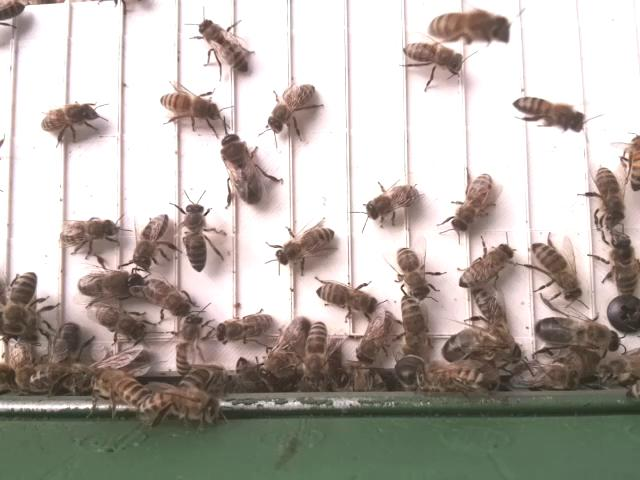Drone: (258, 315, 316, 385), (218, 131, 266, 206), (535, 314, 624, 352), (440, 327, 523, 365), (75, 269, 149, 302), (52, 316, 84, 383)
Worker: (530, 239, 583, 299), (197, 18, 250, 75), (450, 170, 495, 235), (457, 243, 516, 290), (272, 226, 336, 269), (2, 268, 40, 338), (426, 10, 508, 42), (268, 81, 316, 133), (90, 369, 158, 405), (130, 212, 172, 269), (362, 183, 423, 221), (510, 94, 578, 128), (314, 277, 376, 314), (214, 311, 278, 345), (158, 87, 220, 122), (607, 232, 640, 297), (142, 276, 194, 317), (354, 311, 392, 367), (39, 101, 101, 135), (401, 40, 463, 74), (400, 296, 434, 357), (93, 303, 148, 340), (181, 202, 209, 274), (592, 166, 625, 226), (175, 311, 202, 379), (60, 216, 115, 247), (394, 245, 428, 295), (306, 320, 332, 381), (626, 133, 640, 191)
